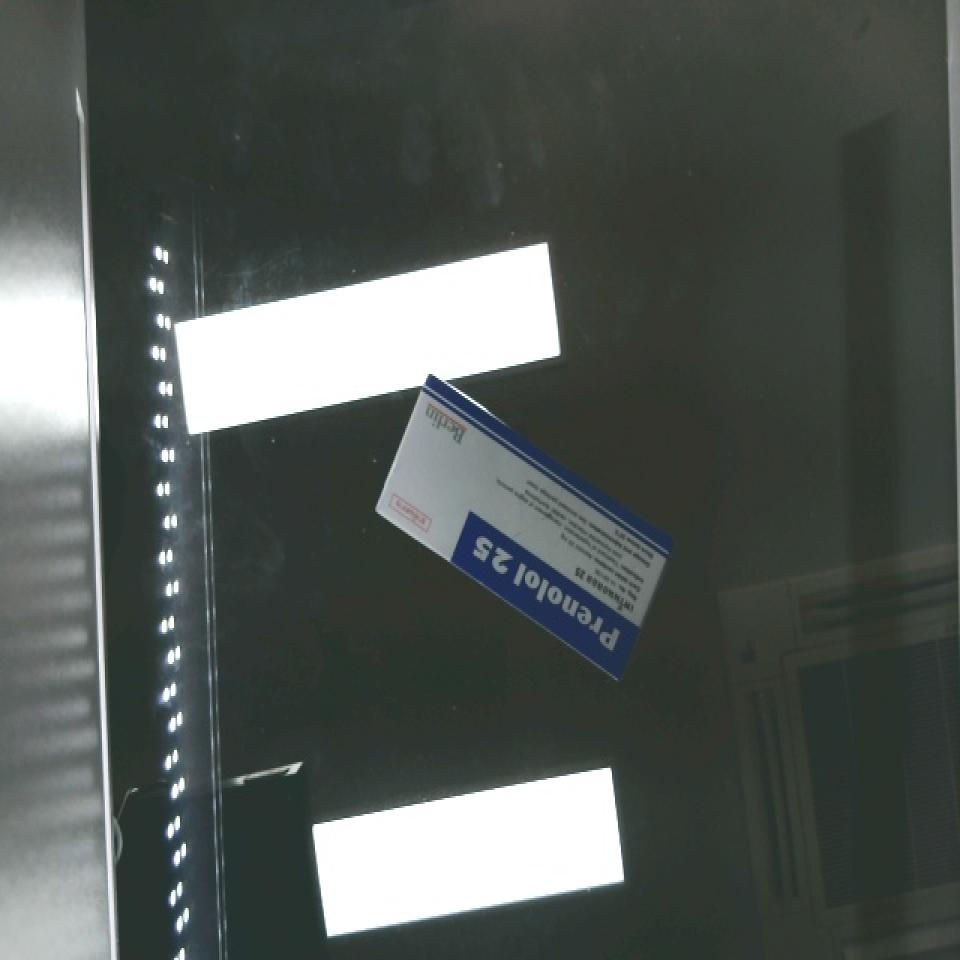medicine_box: (347, 372, 707, 679)
medicine_label_obb: (439, 512, 646, 675)
